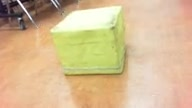cube: (50, 6, 124, 76)
